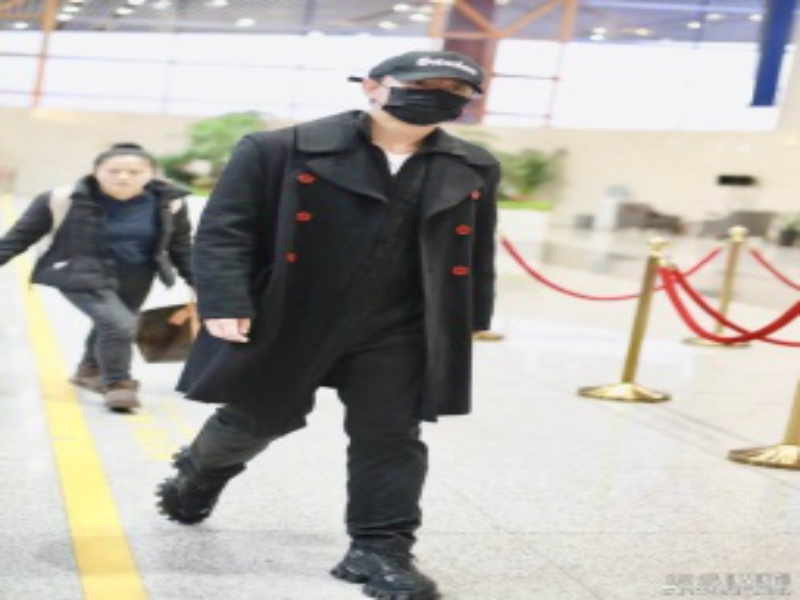ManaoArotava: (365, 37, 491, 167)
TsisyArotava: (85, 135, 165, 221)
